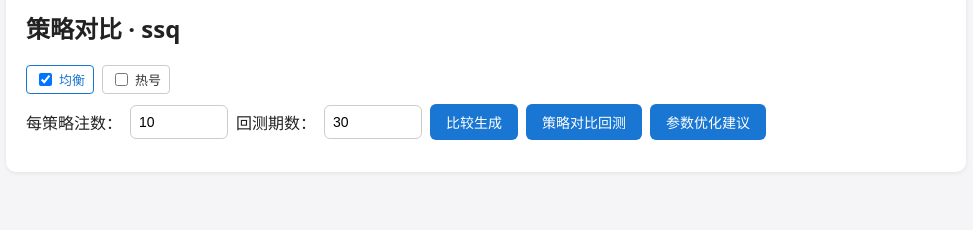
Test: Compare › generate 失败时显示错误
The width and height of the screenshot is (973, 230).
Click the button "比较生成".
click(474, 122)  # box [430,104,518,140]
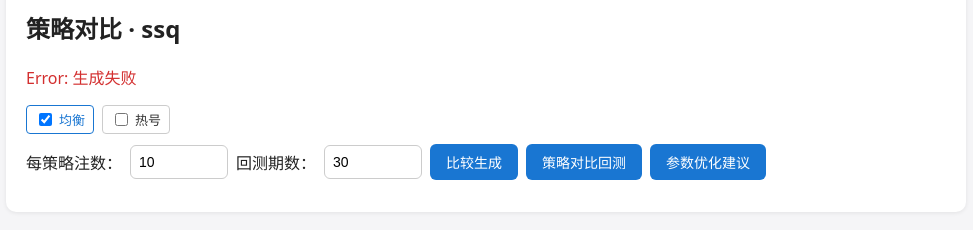
Expected: the text "生成失败" is shown, [26,67,136,89]
